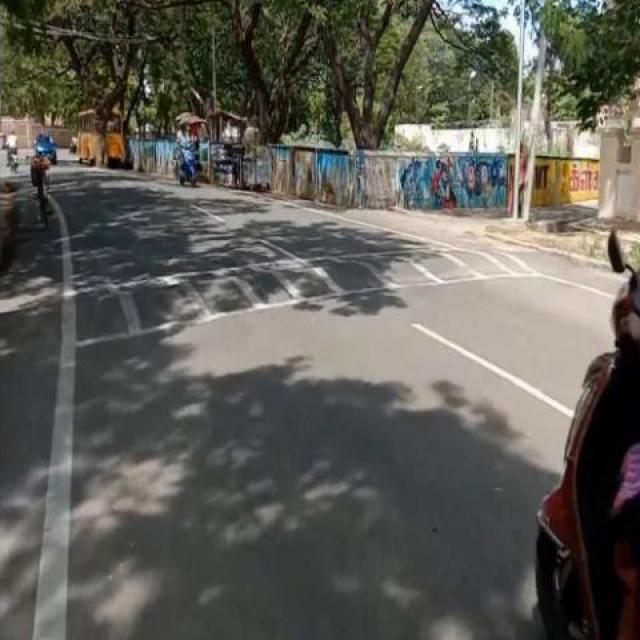Speed Bump: (0, 244, 571, 344)
